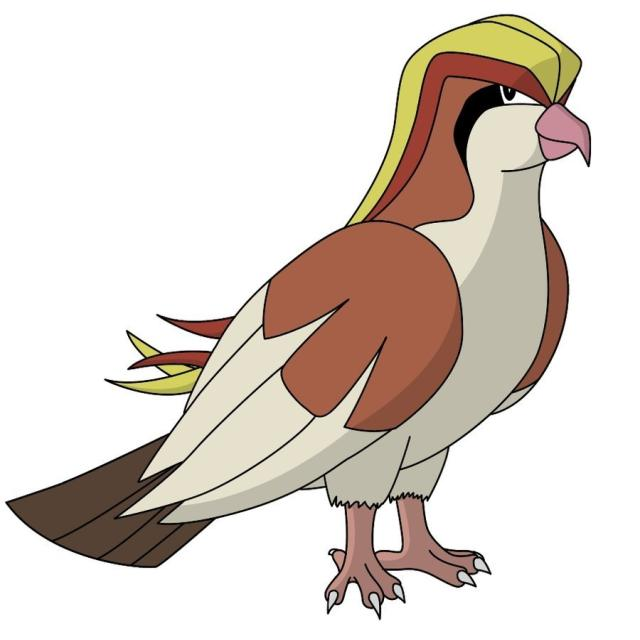Pidgeot: (230, 10, 595, 554)
